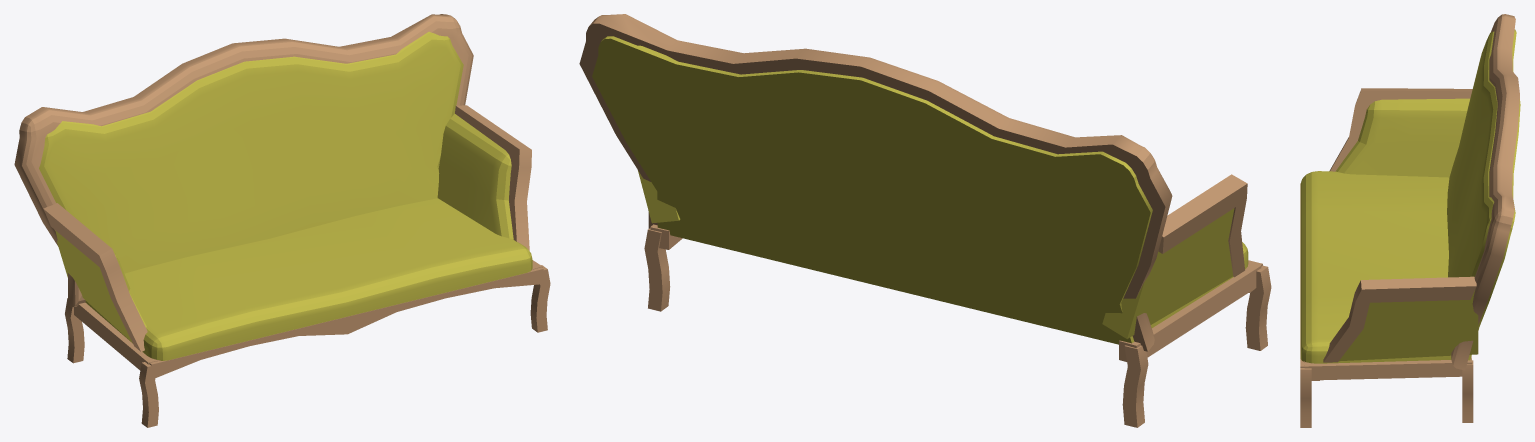
Rendered from Couch.fbx.
The picture shows the model from 3 angles, left to right: view 1: azimuth 30°, elevation 25°; view 2: azimuth 150°, elevation 25°; view 3: azimuth 270°, elevation 25°; orthographic projection. The views are drawn at different scales.
Visible parts, largest first — view 1: polySurface1; view 2: polySurface1; view 3: polySurface1.
Boxes of the visible parts, x1,y1,x2,y2 form: polySurface1: (14,14,550,427); polySurface1: (579,14,1271,427); polySurface1: (1300,14,1520,427).
Bounding box in the file's own units: 22.26 × 11.9 × 9.8.
